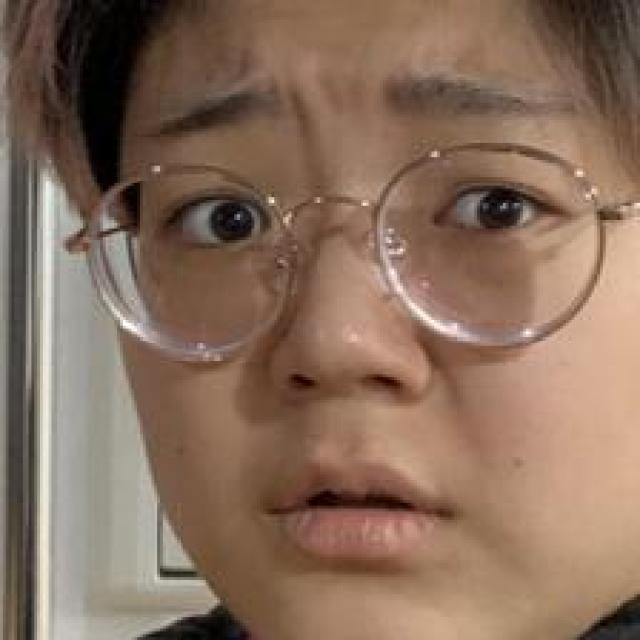Fear: (89, 60, 595, 609)
